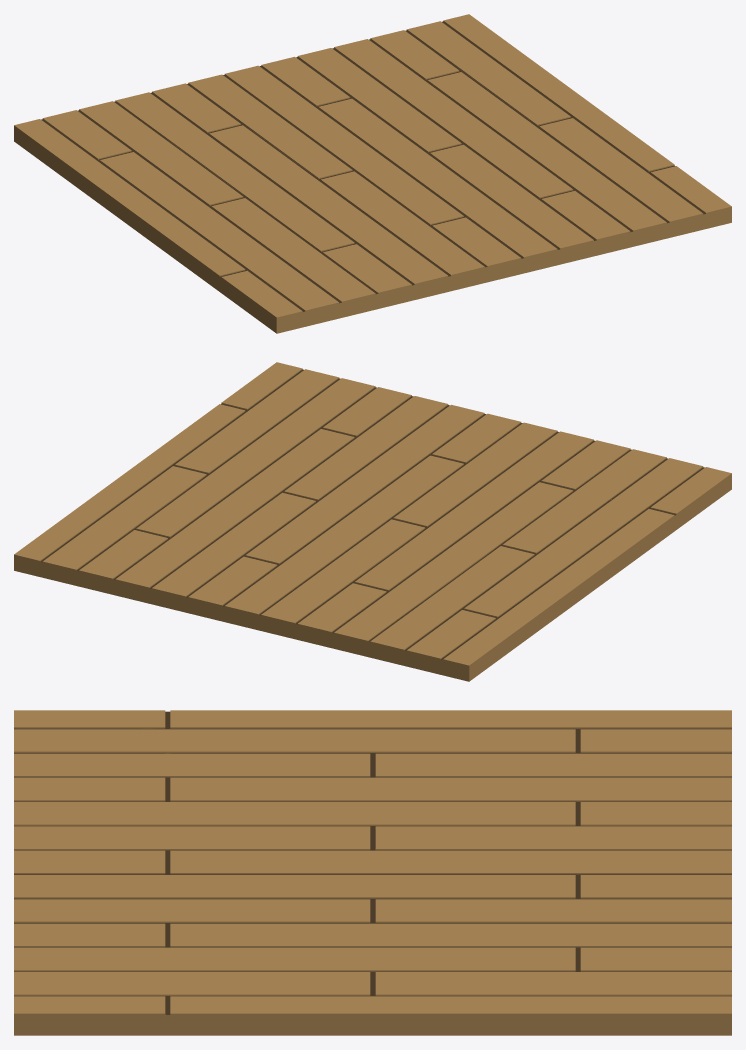
The model's file is FloorTileLarge.fbx.
3 renders of one model, top to bottom at view 1: azimuth 30°, elevation 25°; view 2: azimuth 150°, elevation 25°; view 3: azimuth 270°, elevation 25°, orthographic. The views are drawn at different scales.
Parts seen in each view (by area): view 1: Cube; view 2: Cube; view 3: Cube.
Boxes of the visible parts, x1,y1,x2,y2 form: Cube: (14, 14, 731, 333); Cube: (14, 362, 731, 681); Cube: (14, 710, 731, 1035).
Bounding box in the file's own units: 3794 × 129 × 3794.
